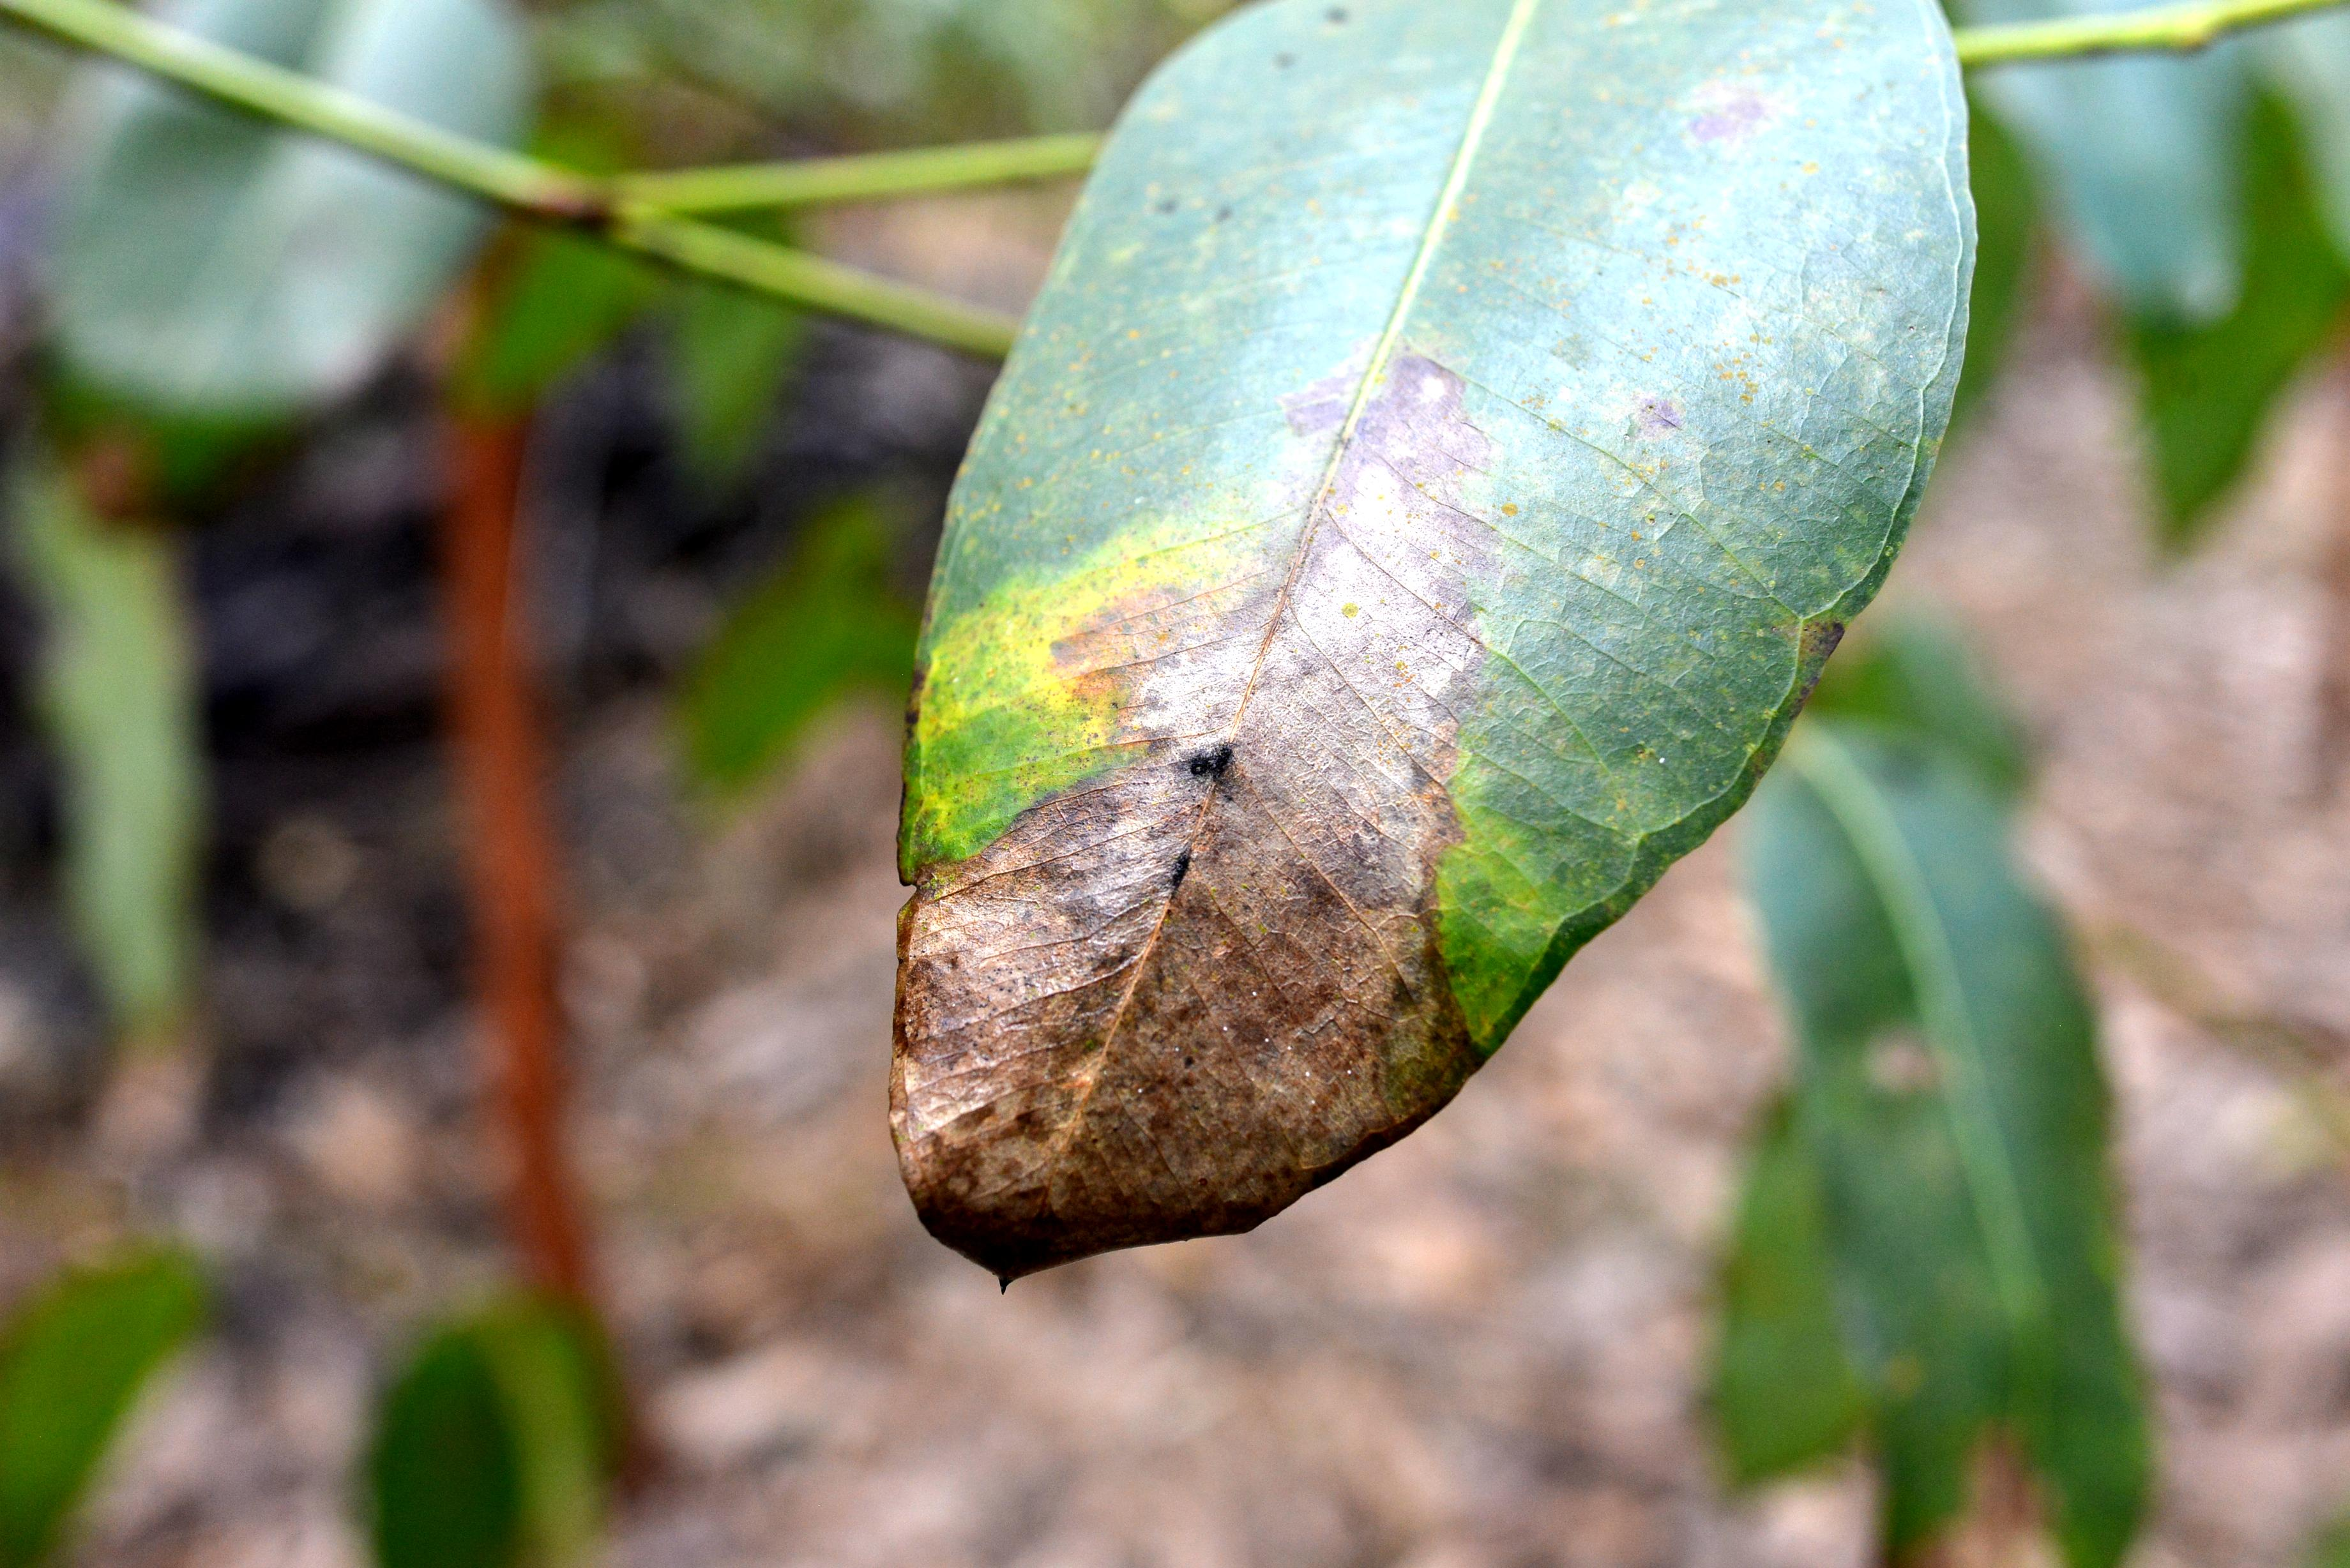Cylindrocladium: (889, 366, 1486, 1262)
